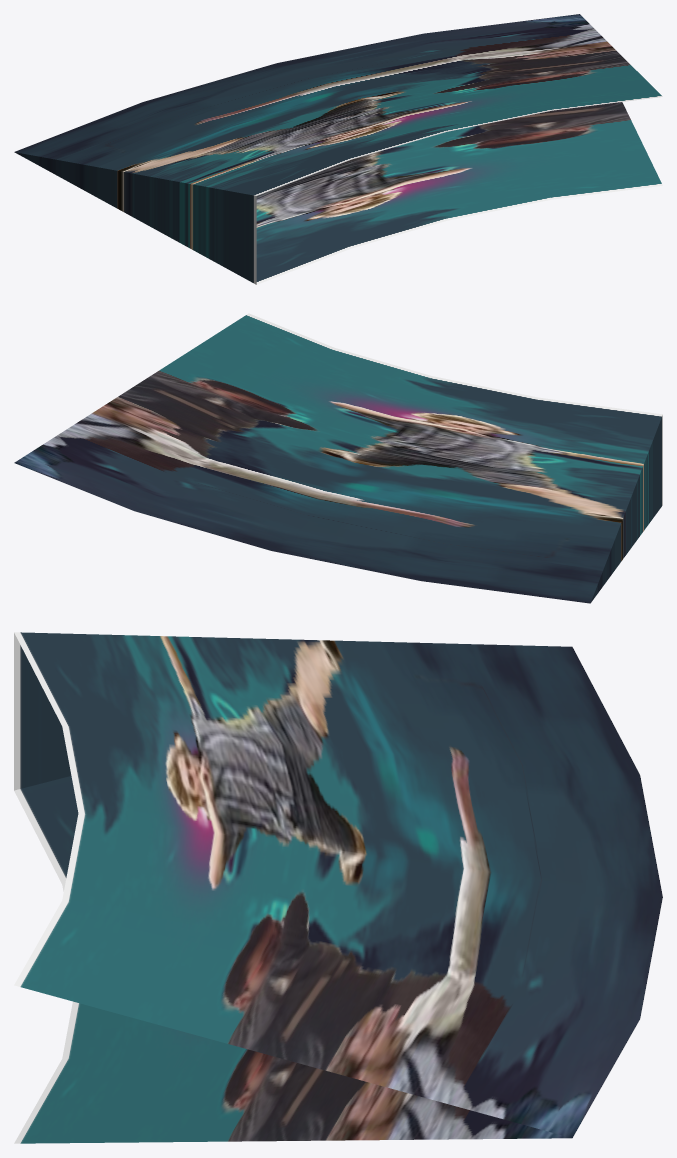
Rendered from SwordSlashThin_head2.fbx.
3 views of the same model, one above another, from view 1: azimuth 30°, elevation 25°; view 2: azimuth 150°, elevation 25°; view 3: azimuth 270°, elevation 25° (orthographic). The views are drawn at different scales.
Parts seen in each view (by area): view 1: SwordSlash_finatrail; view 2: SwordSlash_finatrail; view 3: SwordSlash_finatrail.
Part boxes in pixels (x1,y1,x2,y2): SwordSlash_finatrail: (14,14,662,284); SwordSlash_finatrail: (14,313,662,603); SwordSlash_finatrail: (14,632,662,1143).
Bounding box in the file's own units: 99.89 × 15.01 × 55.74.
Materials: 1 (1 with a texture image).
